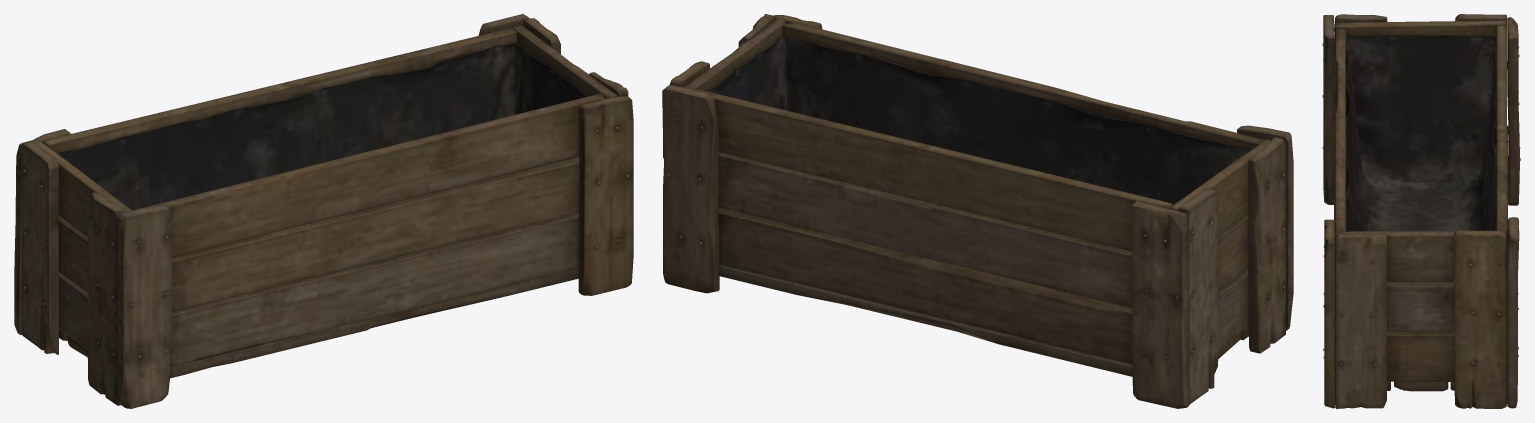
File: planter_box_02.glb
3 renders of one model, left to right at view 1: azimuth 30°, elevation 25°; view 2: azimuth 150°, elevation 25°; view 3: azimuth 270°, elevation 25°, orthographic. The views are drawn at different scales.
Parts seen in each view (by area): view 1: planter_box_02; view 2: planter_box_02; view 3: planter_box_02.
Part boxes in pixels (x1,y1,x2,y2): planter_box_02: (14, 14, 633, 408); planter_box_02: (662, 14, 1293, 408); planter_box_02: (1322, 14, 1520, 408).
Size of the model in its own units: 1.25 by 0.4534 by 0.4672.
1 material, 1 textured.
